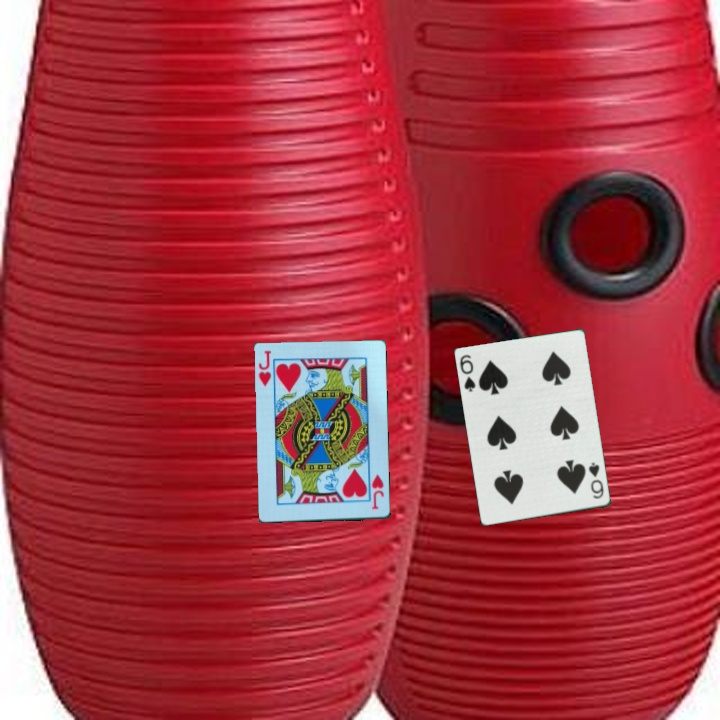6s: (457, 351, 479, 395), (585, 459, 607, 502)
Jh: (255, 347, 274, 390), (368, 471, 387, 512)
